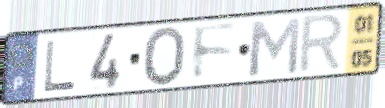4: (86, 30, 124, 91)
F: (191, 21, 240, 85)
L: (42, 38, 79, 94)
M: (247, 14, 303, 78)
O: (142, 24, 189, 89)
R: (295, 11, 348, 77)
